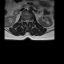CCS_normal: (26, 18, 28, 25)
LFS_stenosis: (29, 19, 31, 23)
LLS_stenosis: (28, 18, 29, 23)
RFS_stenosis: (22, 19, 24, 23)
RLS_stenosis: (24, 19, 26, 23)
